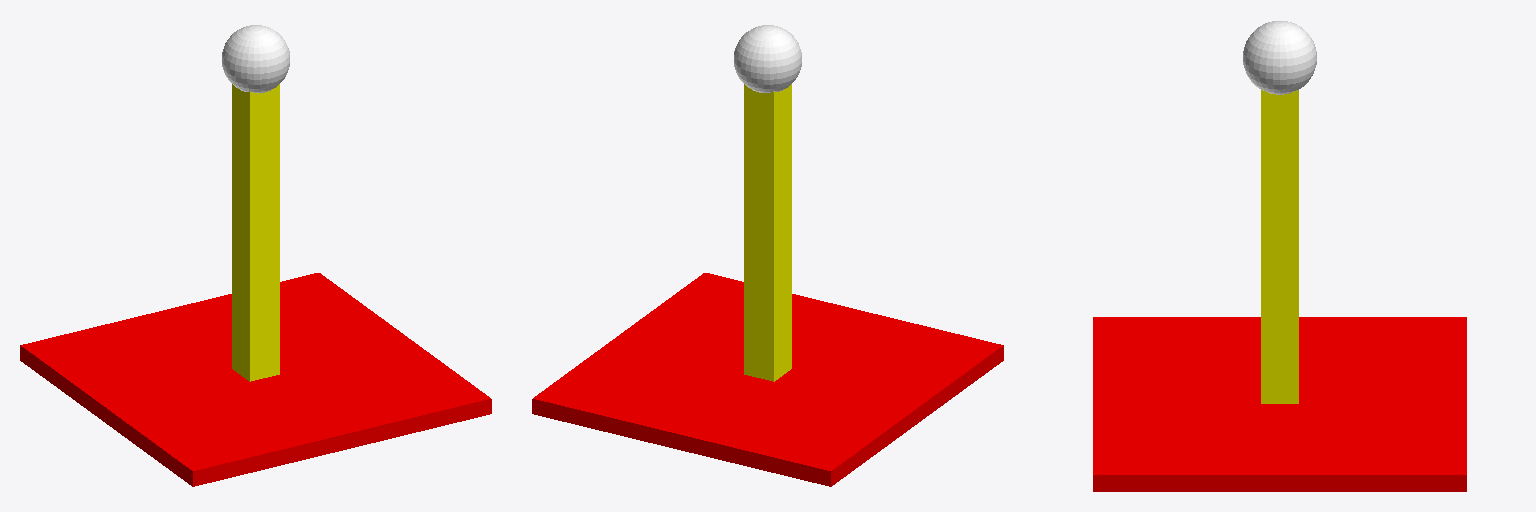
URDF robot description (pan_tilt):
<?xml version="1.0"?>
<robot name="pan_tilt">

	<!-- definire culori si transparenta -->
	<material name="white">
		<color rgba="1 1 1 0.3"/>
	</material>

	<material name="blue">
		<color rgba="0 0 1 0.5"/>
	</material>

	<material name="yellow">
		<color rgba="1 1 0 1"/>
	</material>

	<material name="red">
		<color rgba="1 0 0 0.8"/>
	</material>


	<!-- baza robotului -->
	<link name="base_link">

		<!-- baza robotului VIZUAL-->
		<visual>

			<!-- baza robotului GEOMETRIE-->
			<geometry>
				<box size="1 1 0.05"/>
			</geometry>
			<material name="red"/>
			<origin rpy="0 0 0" xyz="0 0 0.025"/>

		</visual>

	</link>


	<!-- element de tip pan -->
	<link name="pan_link">

		<!-- baza robotului VIZUAL-->
		<visual>

			<!-- baza robotului GEOMETRIE-->
			<geometry>
				<box size="0.1 0.1 1"/>
			</geometry>
			<material name="yellow"/>
			<origin rpy="0 0 0" xyz="0 0 0.5"/>
		</visual>

	</link>

	<!-- element de tip sfera -->
	<link name="sphere_link">

		<!-- baza robotului VIZUAL-->
		<visual>

			<!-- baza robotului GEOMETRIE-->
			<geometry>
				<sphere radius="0.1"/>
			</geometry>
			<material name="white"/>
			<origin rpy="0 0 0" xyz="0 0 0"/>
		</visual>

	</link>


	<!--CUPLE: baza robotului & paralelipiped -->
	<joint name="pan_joint" type="revolute">
		<parent link="base_link"/>
		<child link="pan_link"/>

		<origin xyz="0 0 0.05"/>
		<axis xyz="0 0 1" />
		<limit effort="300" velocity="0.1" lower="-3.14" upper="3.14"/>
	</joint>

	<!--CUPLE: baza robotului & paralelipiped -->
	<joint name="sphere_joint" type="fixed">
		<parent link="pan_link"/>
		<child link="sphere_link"/>

		<origin xyz="0 0 1"/>
	</joint>


</robot>

--- Facts derived from the render (not from the file) ---
The picture shows the robot from 3 angles, left to right: view 1: azimuth 30°, elevation 25°; view 2: azimuth 150°, elevation 25°; view 3: azimuth 270°, elevation 25°; orthographic projection.
Model pan_tilt with 3 links and 2 joints (1 revolute, 1 fixed), rooted at base_link, posed every joint at zero.
Links seen in each view (by area): view 1: base_link, pan_link, sphere_link; view 2: base_link, pan_link, sphere_link; view 3: base_link, pan_link, sphere_link.
Boxes of the visible links, x1=… form: base_link: x1=20, y1=273, x2=491, y2=486; pan_link: x1=232, y1=84, x2=279, y2=381; sphere_link: x1=222, y1=25, x2=289, y2=92; base_link: x1=532, y1=273, x2=1003, y2=486; pan_link: x1=744, y1=84, x2=791, y2=381; sphere_link: x1=734, y1=25, x2=801, y2=92; base_link: x1=1093, y1=317, x2=1466, y2=491; pan_link: x1=1261, y1=90, x2=1298, y2=403; sphere_link: x1=1243, y1=21, x2=1316, y2=94.
Bounding box of the posed robot: 1 × 1 × 1.15 m (x, y, z).
Geometry: primitives only (box / cylinder / sphere), no mesh files.